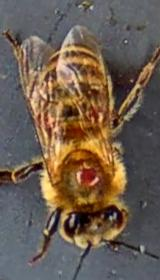varroa_mite: (70, 155, 106, 190), (78, 96, 108, 128), (36, 108, 58, 136)
